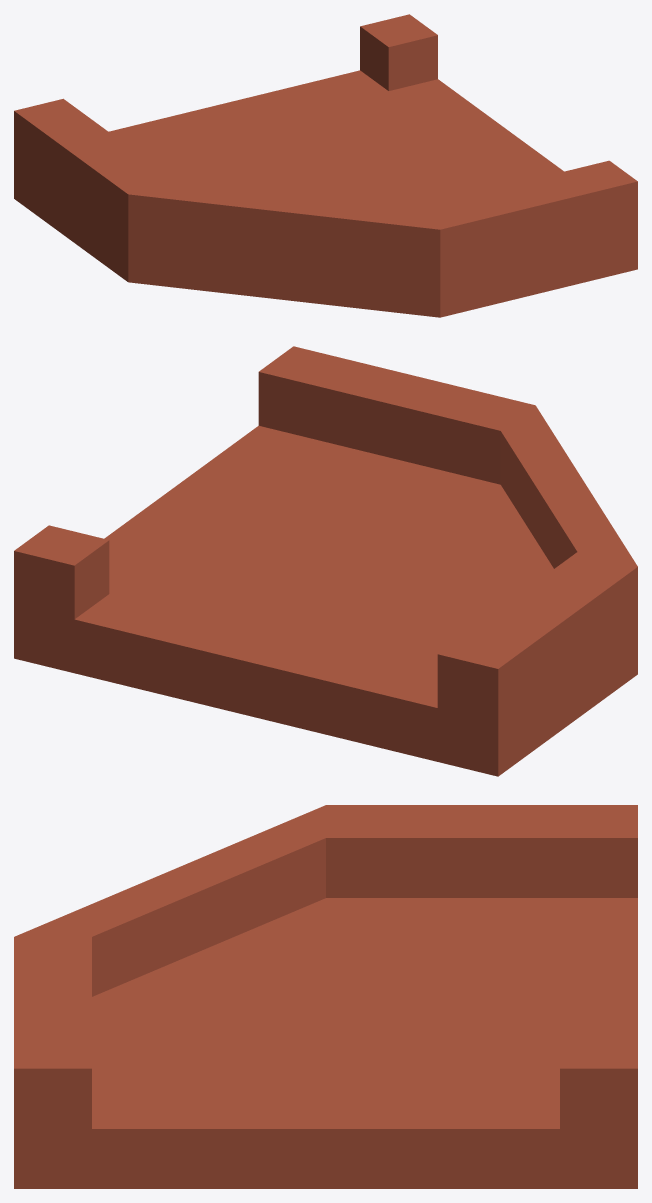
Rendered from modularBuildings_007.obj.
3 renders of one model, top to bottom at view 1: azimuth 30°, elevation 25°; view 2: azimuth 150°, elevation 25°; view 3: azimuth 270°, elevation 25°, orthographic. The views are drawn at different scales.
Parts seen in each view (by area): view 1: Mesh1 Group1 Model; view 2: Mesh1 Group1 Model; view 3: Mesh1 Group1 Model.
Boxes of the visible parts, box(x1,y1,x2,y2) form: Mesh1 Group1 Model: box(14, 14, 637, 317); Mesh1 Group1 Model: box(14, 346, 637, 776); Mesh1 Group1 Model: box(14, 805, 637, 1188).
Bounding box in the file's own units: 1 × 0.2125 × 1.
